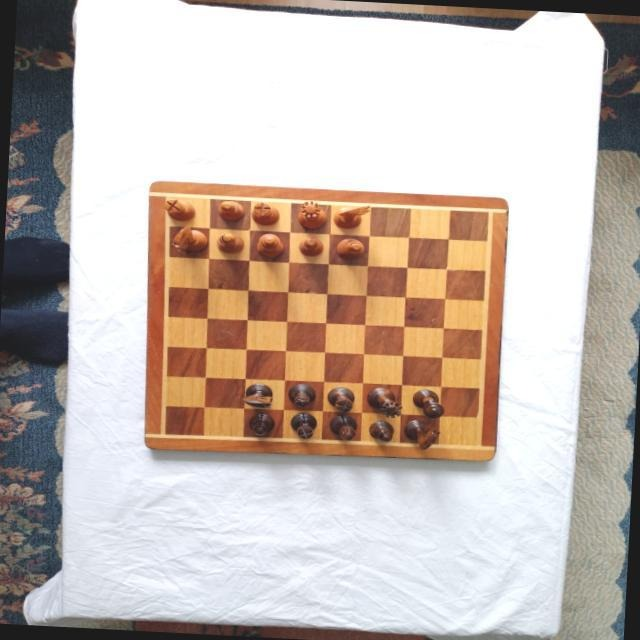black-bishop: (329, 414, 358, 441), (288, 383, 316, 408)
black-king: (411, 389, 444, 419)
black-knight: (402, 419, 440, 451), (241, 382, 273, 409)
black-pawn: (248, 414, 275, 436), (366, 421, 393, 443)
black-queen: (365, 386, 403, 418)
black-rook: (288, 412, 316, 439), (326, 387, 354, 413)
white-bishop: (335, 238, 364, 261), (215, 233, 244, 255)
white-king: (256, 233, 284, 258)
white-knight: (169, 225, 206, 254), (332, 203, 369, 230)
white-pawn: (216, 200, 243, 222), (298, 236, 322, 257)
white-queen: (296, 201, 327, 231)
white-rook: (161, 198, 194, 222), (250, 202, 278, 227)
